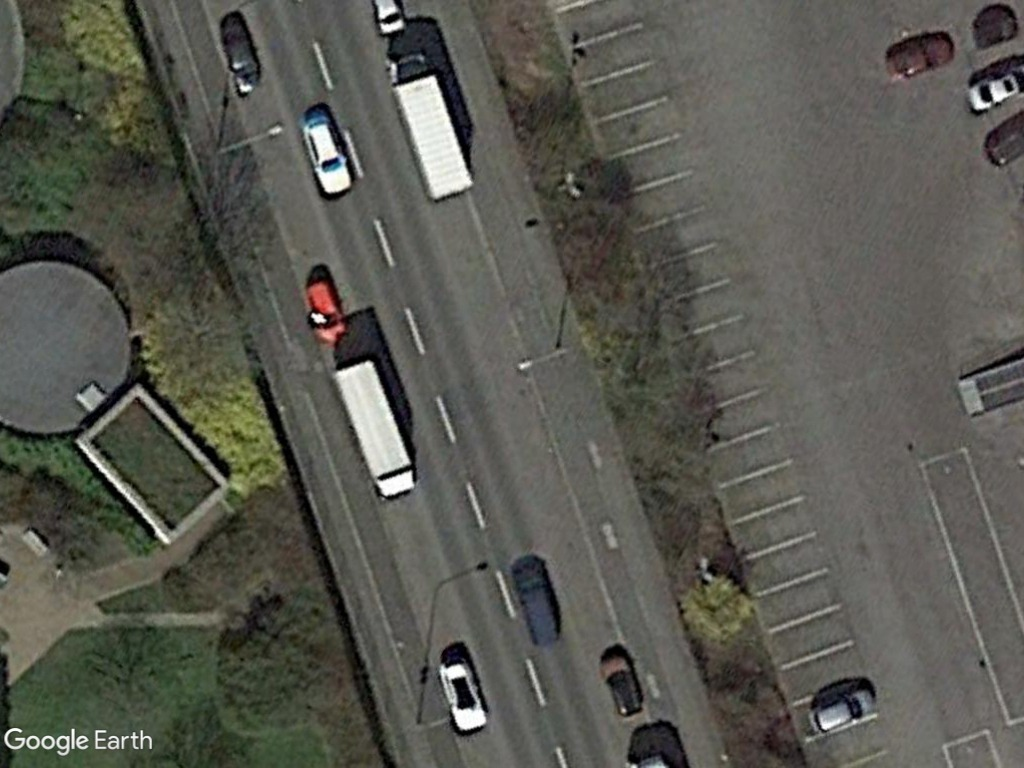car: (300, 114, 356, 200), (438, 653, 488, 736), (805, 686, 878, 740)
truck: (384, 52, 479, 210), (332, 361, 418, 503)
